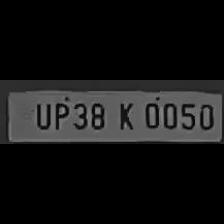0: (139, 99, 161, 131), (196, 100, 216, 130), (160, 99, 178, 129)
3: (69, 99, 87, 131)
5: (176, 99, 196, 131)
8: (88, 99, 108, 131)
K: (112, 98, 136, 132)
P: (51, 99, 69, 131)
U: (31, 100, 51, 130)
